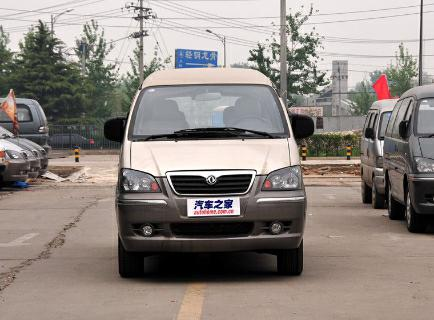东风风行-菱智: (107, 63, 316, 284)
